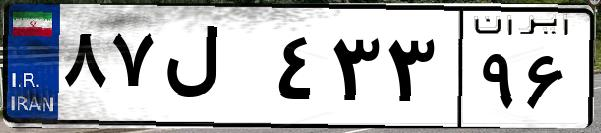3: (385, 28, 445, 110), (330, 28, 385, 110)
4: (270, 28, 330, 110)
6: (525, 38, 570, 115)
7: (110, 28, 158, 98)
8: (57, 26, 110, 100)
9: (475, 38, 525, 113)
ل: (158, 20, 270, 120)
